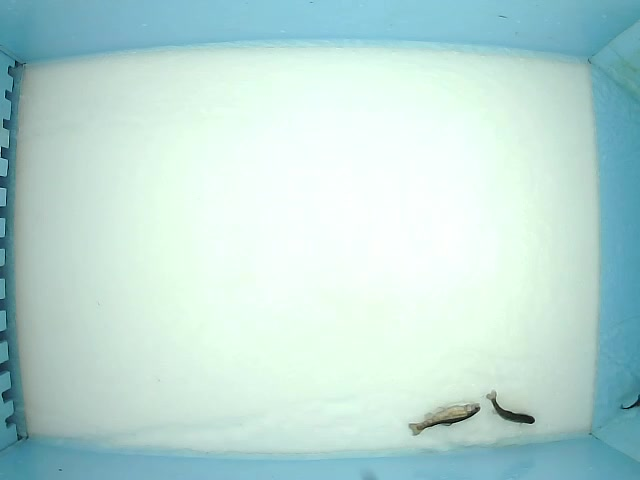fish: (407, 400, 482, 437), (485, 388, 536, 426)
